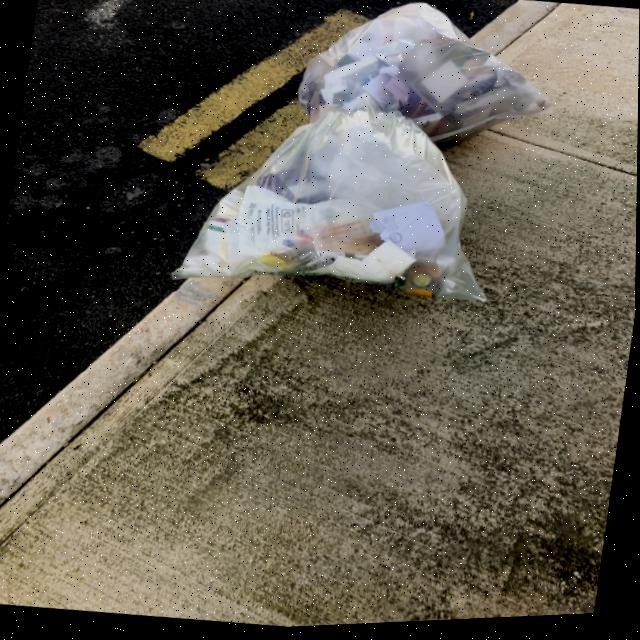Organic Waste -White Bag-: (160, 78, 534, 338), (283, 1, 563, 164)
